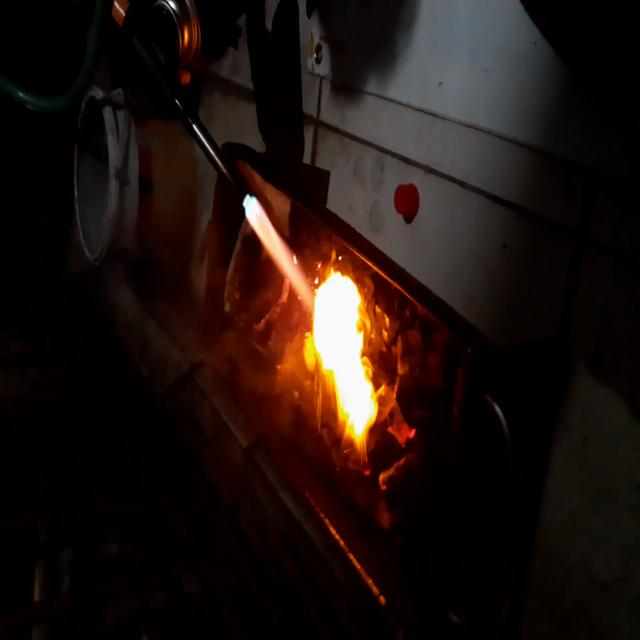Fire: (306, 256, 384, 472), (208, 282, 298, 468), (243, 182, 317, 314), (382, 362, 428, 505)
